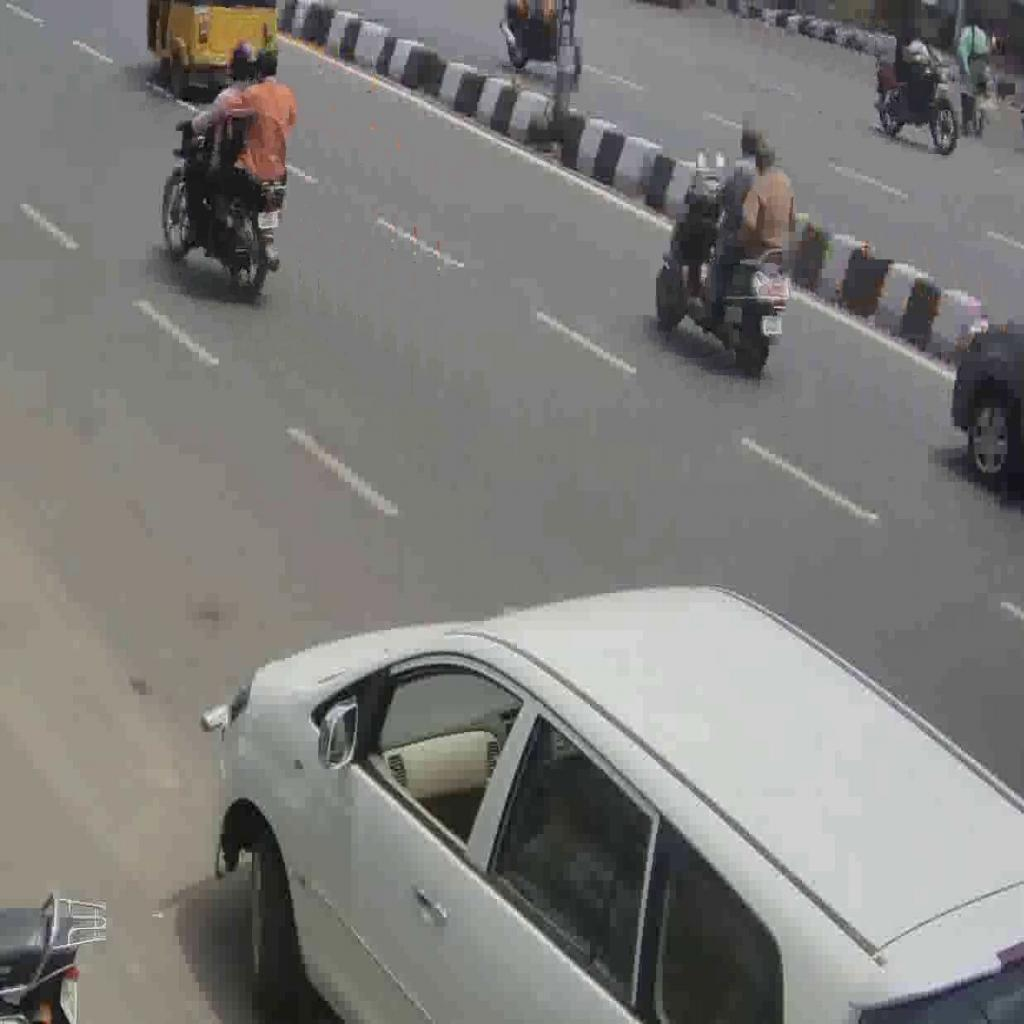helmet: (653, 169, 794, 379), (160, 107, 288, 301)
